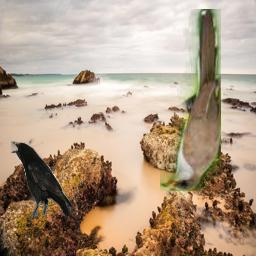Crow: (10, 140, 74, 222)
Cuckoo: (160, 9, 221, 191)
